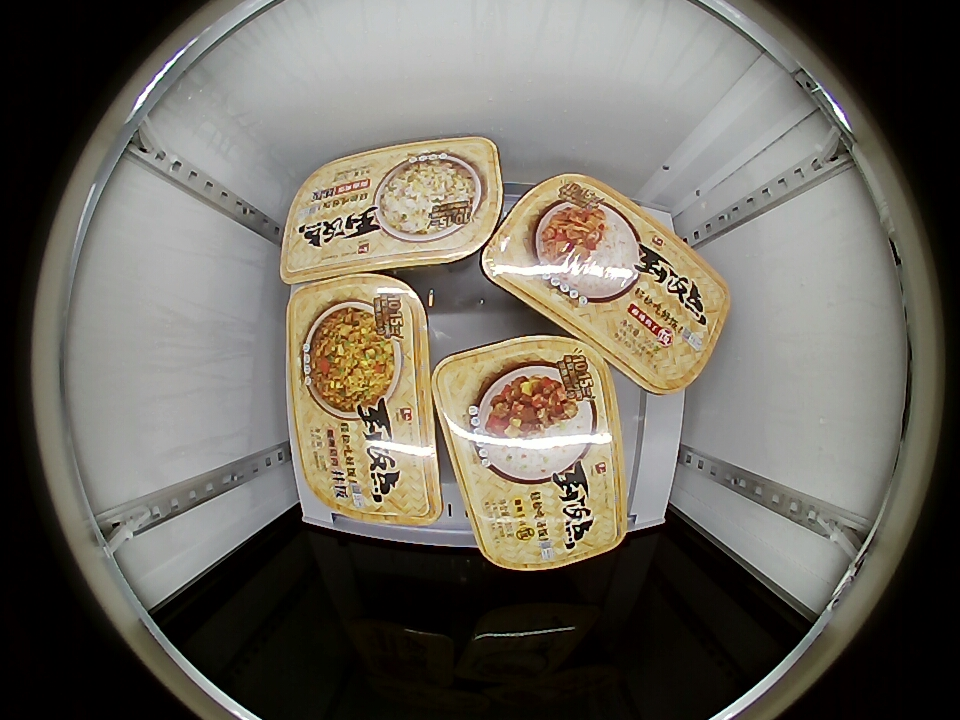daofandian1: (278, 137, 504, 280)
daofandian2: (436, 334, 630, 571)
daofandian3: (287, 275, 440, 526)
daofandian4: (487, 173, 730, 392)
